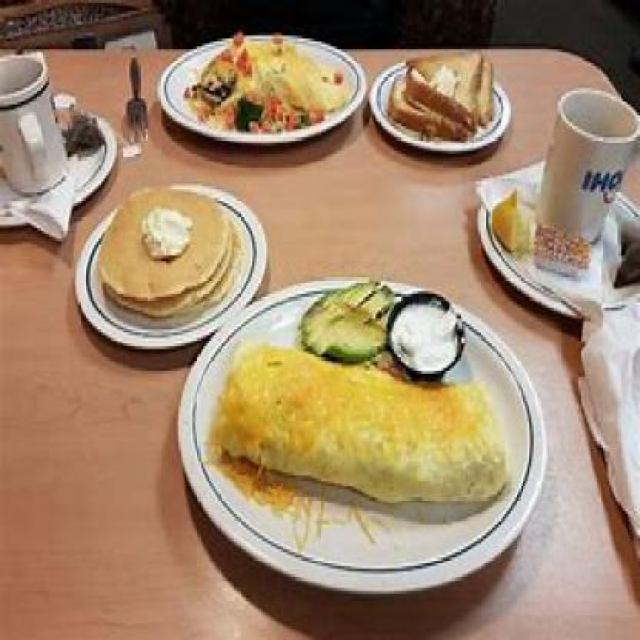french toast: (381, 38, 497, 140)
ice cream: (136, 203, 195, 259)
omelette: (215, 332, 511, 514), (181, 32, 347, 132)
pancakes: (92, 178, 238, 322)
